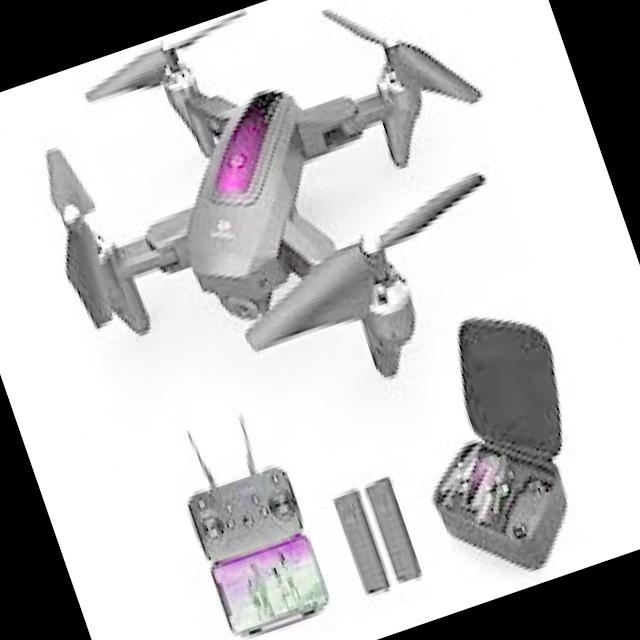drone: (0, 0, 574, 479)
